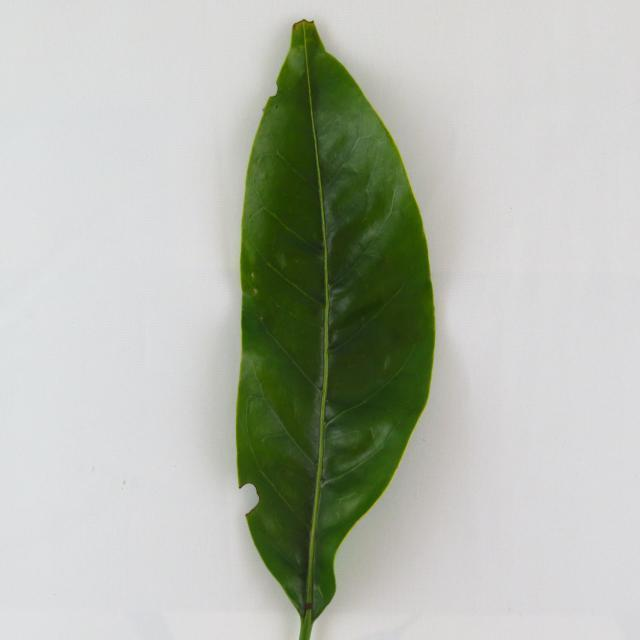DeficienciaNutricional-Calcio: (236, 20, 434, 638)
